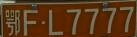F: (24, 10, 38, 36)
